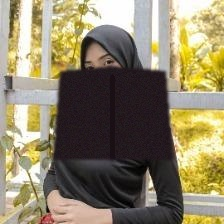Cadar_Niqab: (52, 20, 172, 159)
